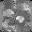people: (3, 8, 15, 17), (3, 19, 13, 29), (16, 15, 24, 23)
